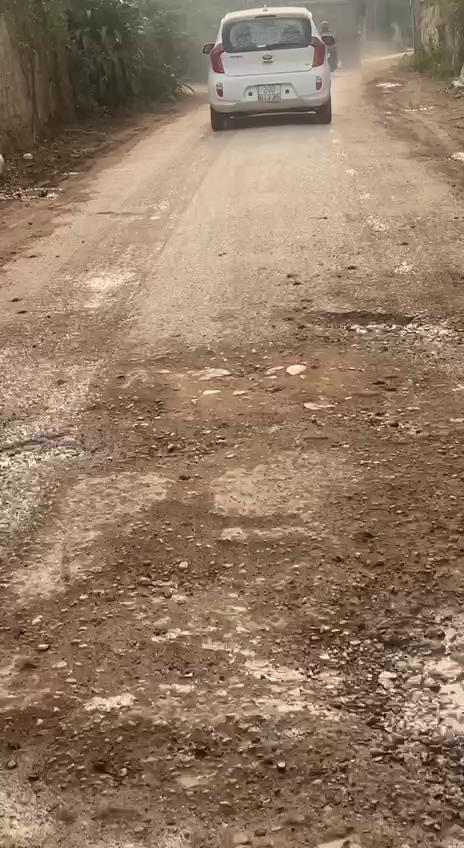pothole: (0, 493, 297, 792), (323, 552, 464, 848), (298, 307, 464, 348)
